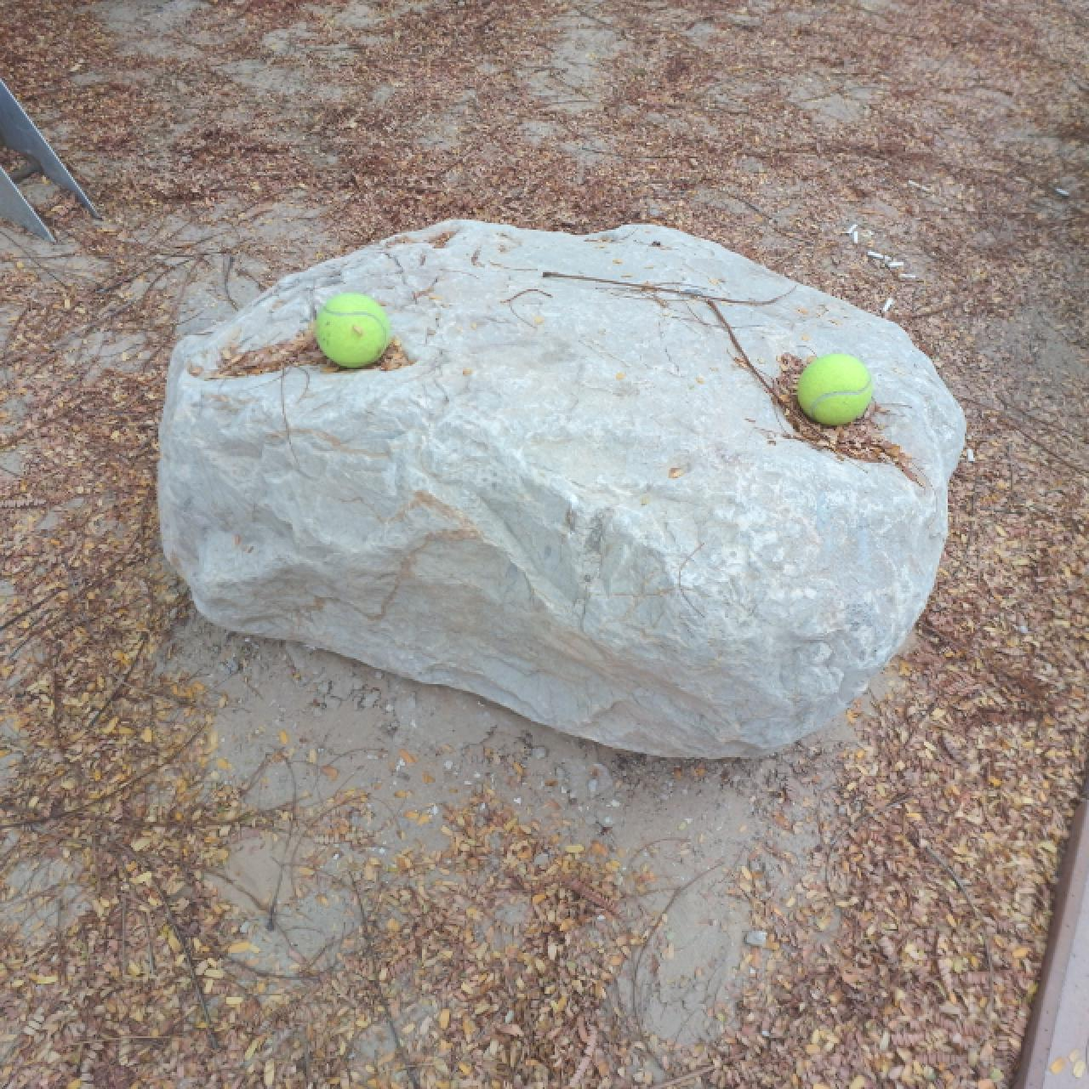tennis-ball: (316, 289, 391, 371), (795, 350, 874, 427)
